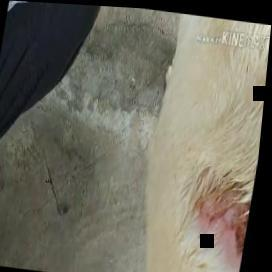skin_lesions: (186, 162, 259, 263)
